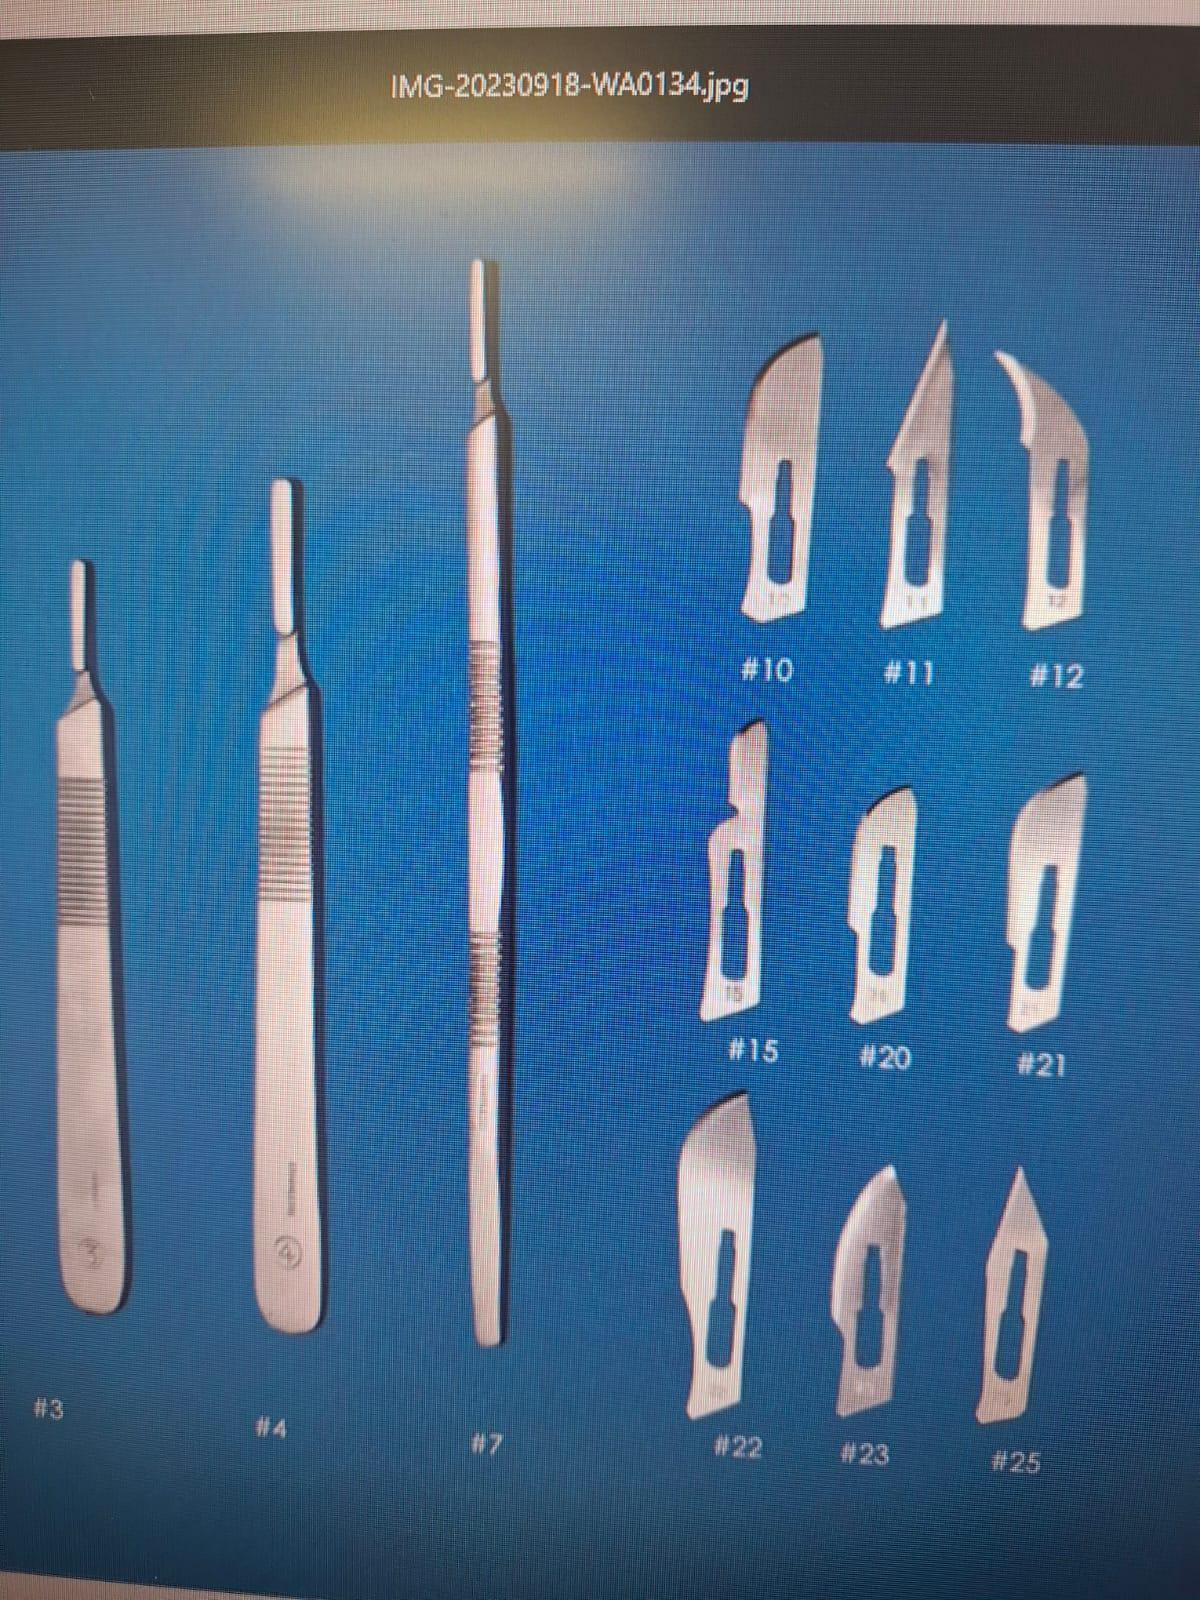Knife Blade: (976, 742, 1113, 1044), (707, 307, 823, 643), (655, 1085, 765, 1432), (977, 338, 1103, 640), (808, 1160, 943, 1427), (867, 307, 966, 635), (829, 765, 928, 1033), (971, 1170, 1070, 1430)
Knife Handle: (218, 447, 361, 1361), (23, 551, 185, 1351)
